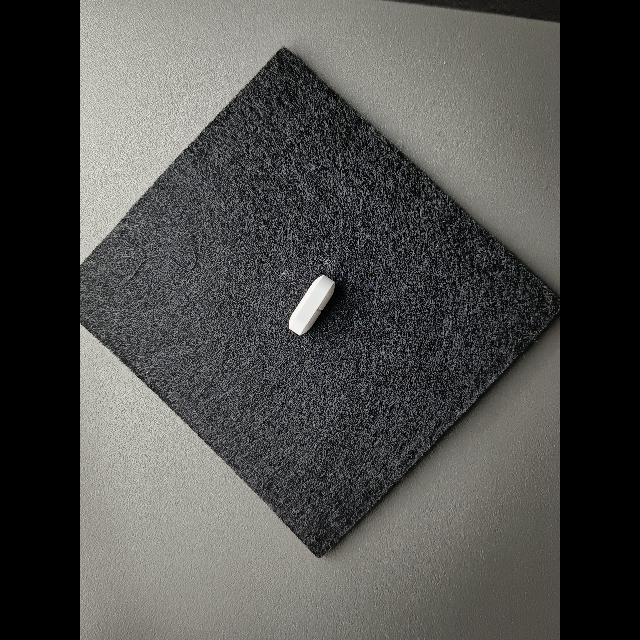Intact Pill: (289, 275, 335, 335)
